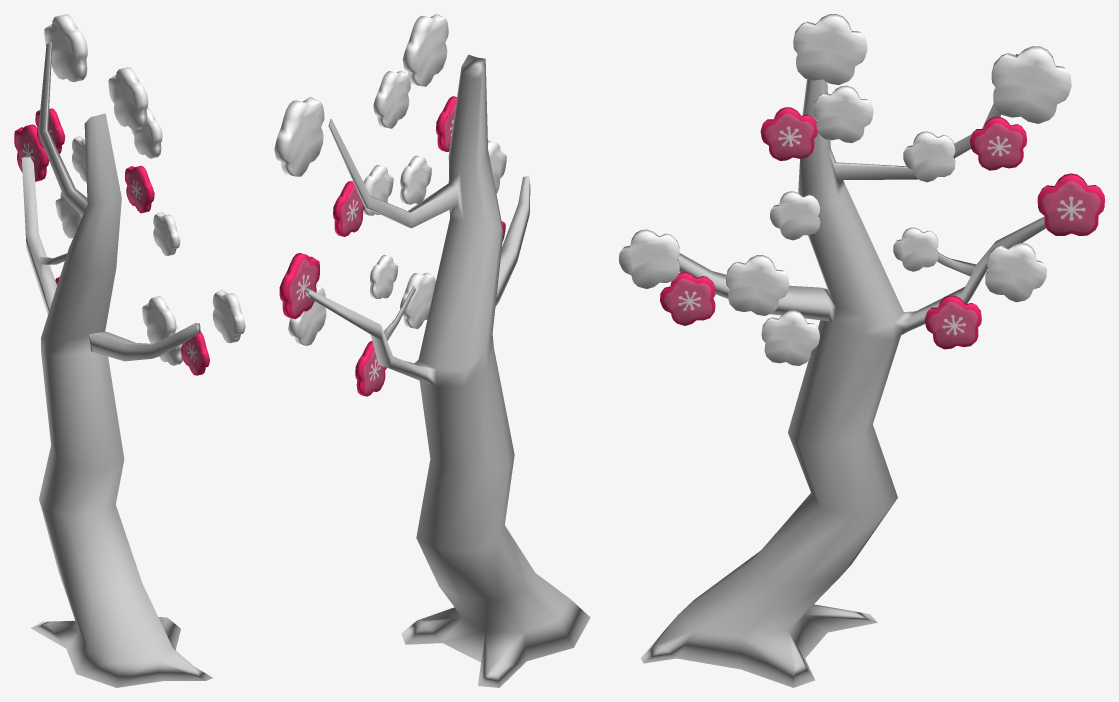
Rendered from NewUmeTree2.fbx.
3 views of the same model, side by side, from view 1: azimuth 30°, elevation 25°; view 2: azimuth 150°, elevation 25°; view 3: azimuth 270°, elevation 25° (orthographic). The views are drawn at different scales.
Visible parts, largest first — view 1: pCube3; view 2: pCube3; view 3: pCube3.
Boxes of the visible parts, x1=… form: pCube3: x1=14, y1=14, x2=245, y2=687; pCube3: x1=274, y1=14, x2=590, y2=687; pCube3: x1=619, y1=14, x2=1104, y2=687.
Size of the model in its own units: 477 by 1987 by 1345.
